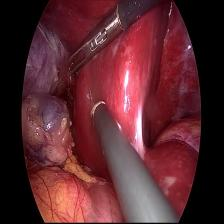Grasper: (66, 8, 128, 76)
Hook: (84, 84, 112, 126)
